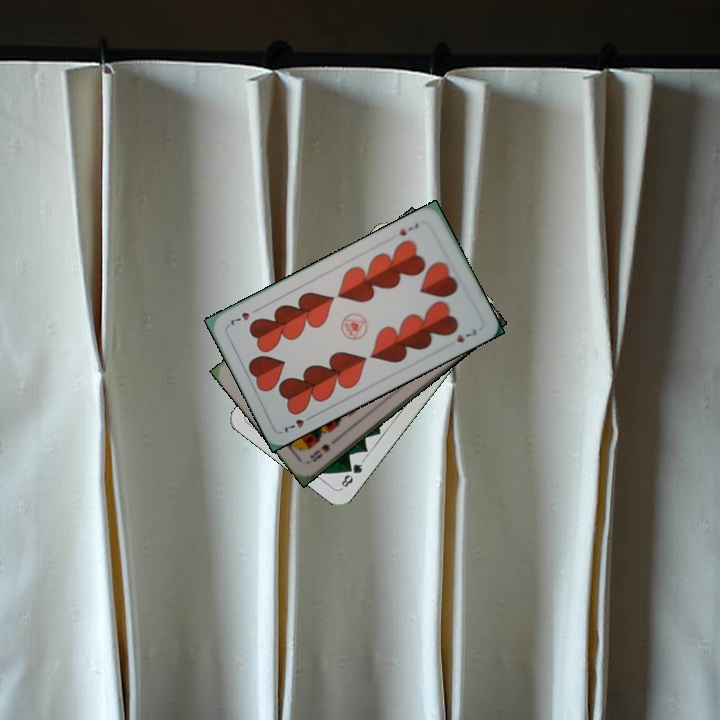G8: (337, 457, 366, 491)
H7: (280, 411, 317, 435), (395, 219, 421, 238)
S8: (306, 440, 333, 464)
